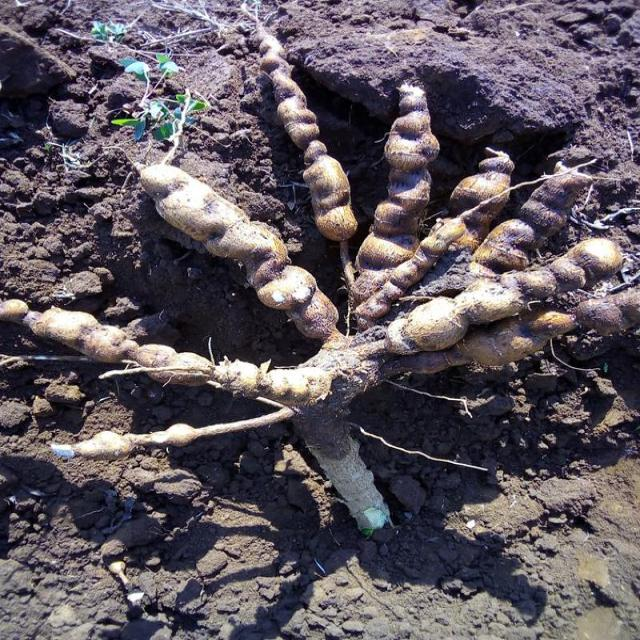cassava leaf: (2, 27, 634, 534)
